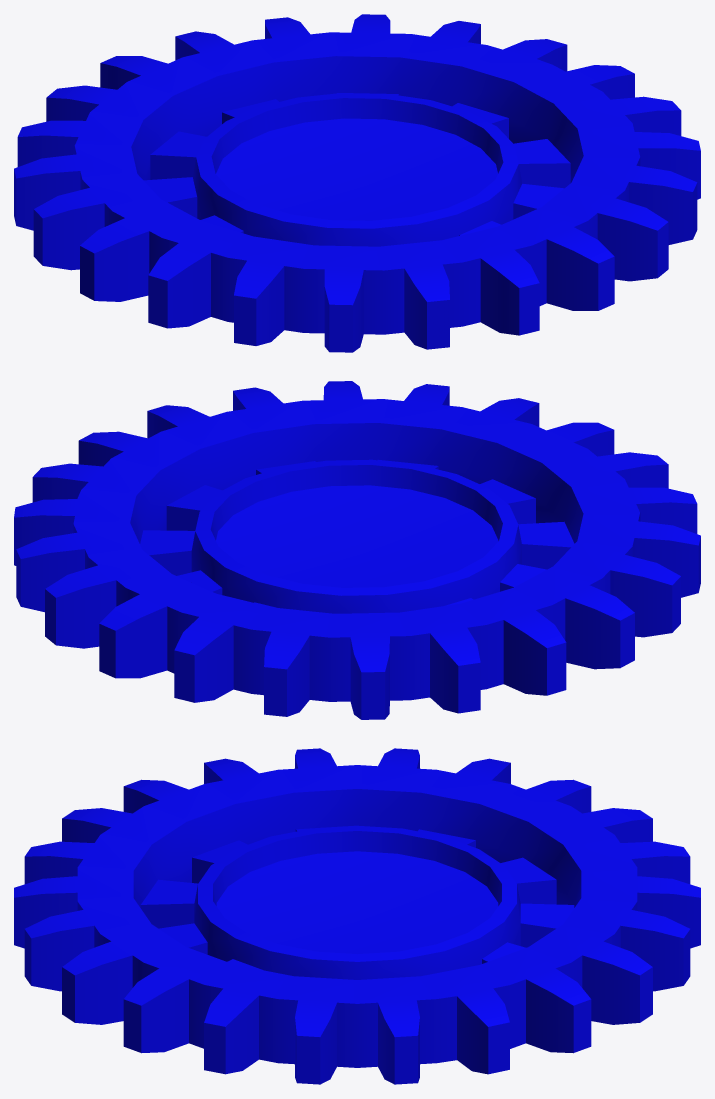
File: Gear_Small.fbx
3 renders of one model, top to bottom at view 1: azimuth 30°, elevation 25°; view 2: azimuth 150°, elevation 25°; view 3: azimuth 270°, elevation 25°, orthographic.
Parts seen in each view (by area): view 1: Gear_Small; view 2: Gear_Small; view 3: Gear_Small.
Part boxes in pixels (<box>): Gear_Small: <box>14,14,700,352</box>; Gear_Small: <box>14,381,700,719</box>; Gear_Small: <box>14,748,700,1084</box>.
Size of the model in its own units: 0.9667 by 0.9719 by 0.1.
